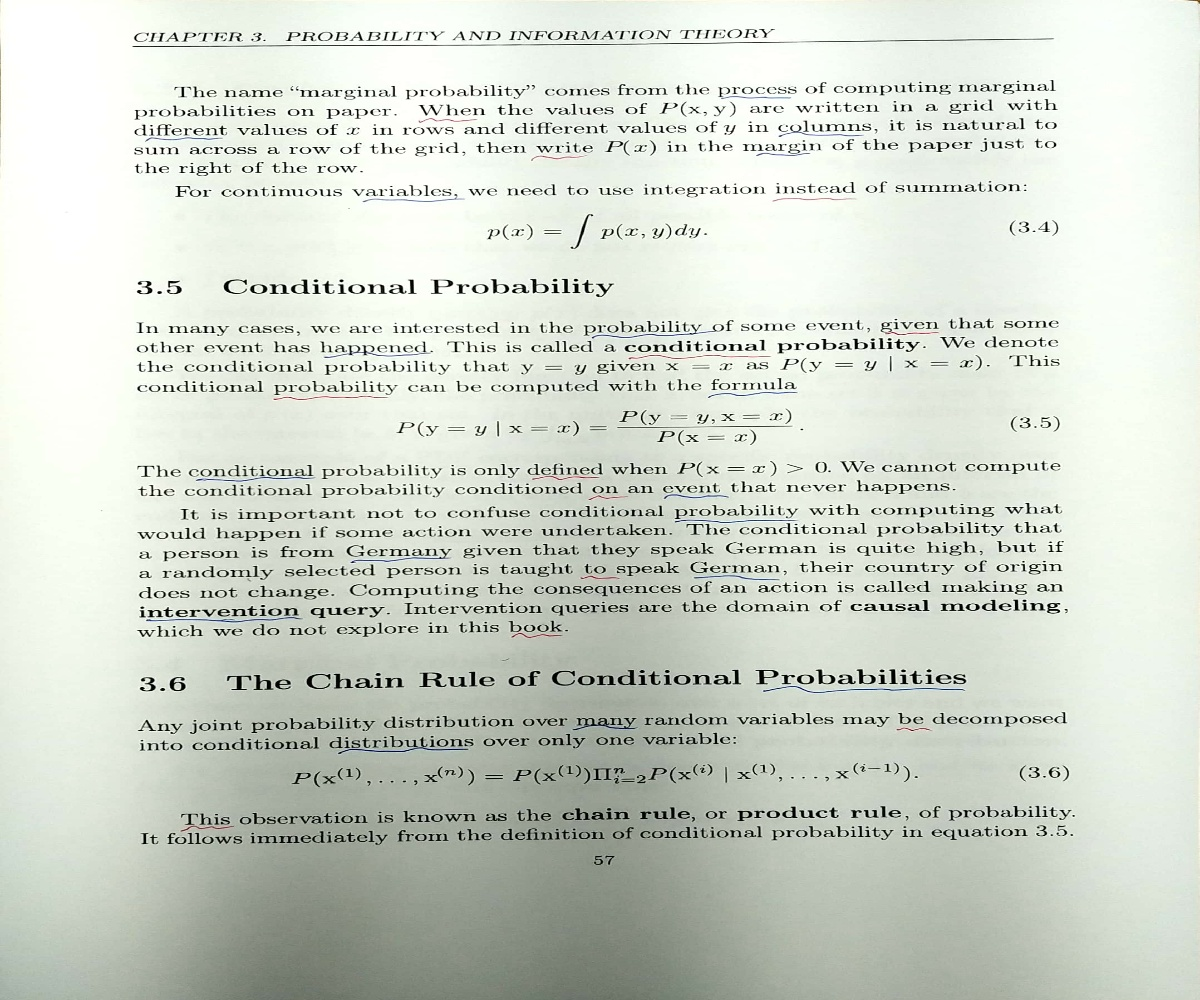underline: (762, 683, 965, 695), (272, 392, 398, 405), (144, 615, 305, 624), (673, 515, 798, 526), (624, 352, 776, 361), (334, 746, 469, 755), (588, 329, 721, 338), (690, 571, 779, 584), (321, 351, 434, 361), (360, 195, 467, 205), (346, 554, 450, 564), (705, 389, 797, 399), (192, 475, 320, 482), (777, 130, 869, 139), (178, 820, 236, 834), (661, 492, 729, 503), (143, 134, 226, 143), (529, 472, 601, 482), (717, 93, 794, 102), (418, 115, 477, 126), (570, 722, 640, 731), (771, 195, 856, 202), (754, 148, 812, 158), (883, 327, 940, 337), (528, 152, 591, 161), (508, 632, 562, 642), (578, 572, 620, 584), (587, 492, 630, 503), (892, 725, 933, 735)
